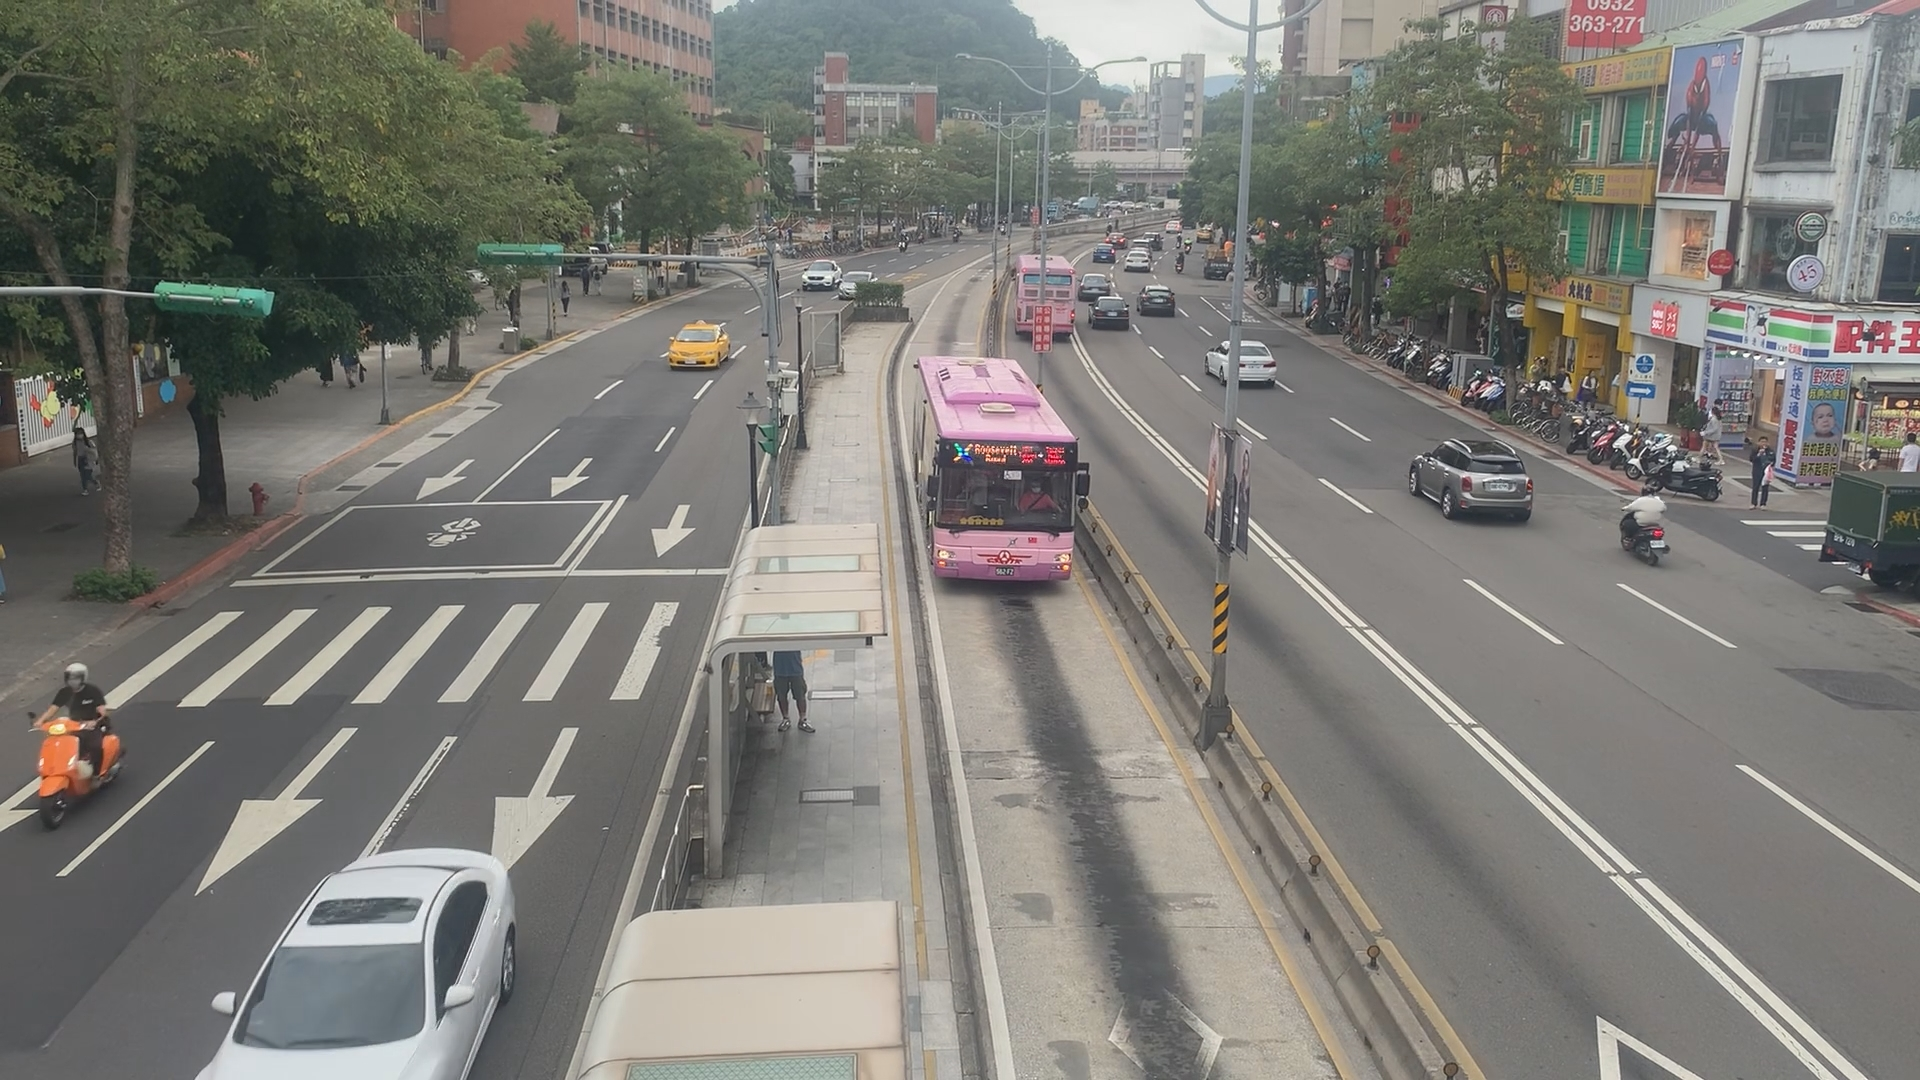Bus: (901, 351, 1085, 603), (1017, 251, 1072, 342)
Business Passenger Car: (673, 318, 731, 371)
Motorcycle: (29, 659, 125, 822), (1619, 483, 1672, 556)
Private Passenger Car: (196, 851, 516, 1080), (1404, 429, 1528, 533), (1203, 334, 1283, 394), (1138, 285, 1178, 318), (800, 255, 833, 289), (1091, 298, 1131, 324), (1077, 272, 1114, 301), (840, 273, 872, 298), (1092, 243, 1116, 266), (1127, 255, 1154, 276)
